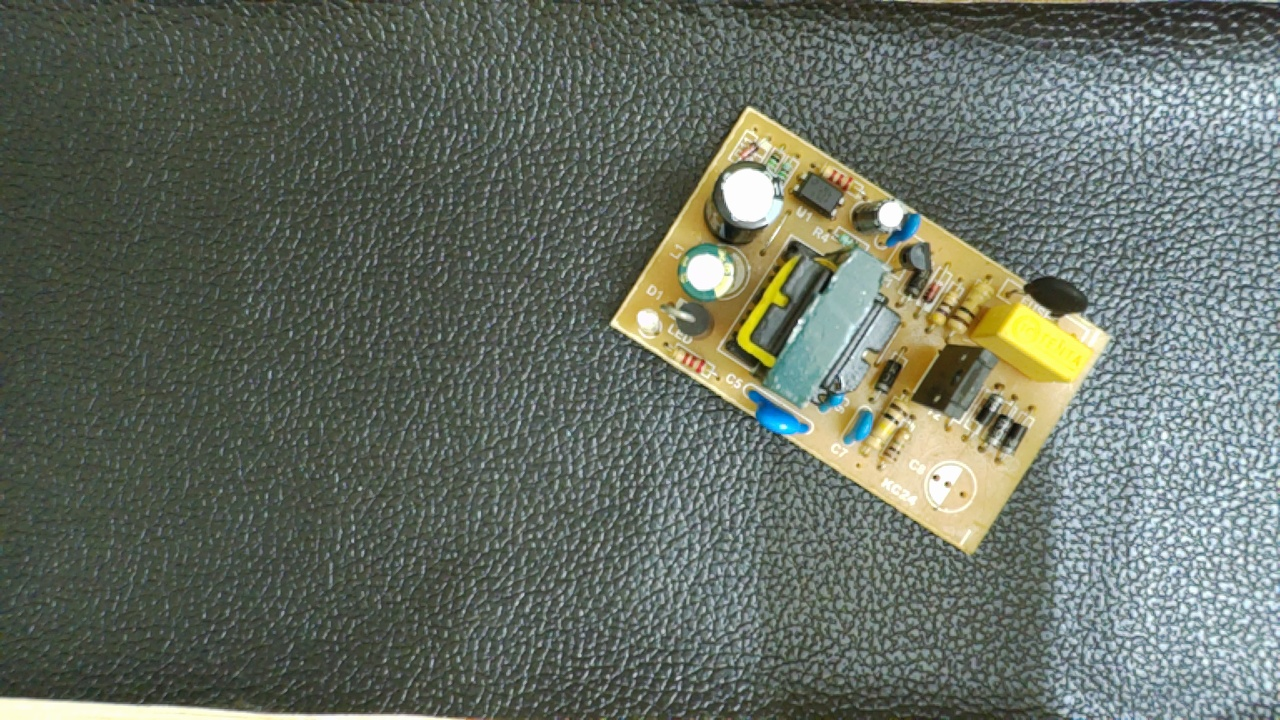fuse: (1007, 272, 1092, 323)
mov: (737, 384, 813, 440)
optocoupler: (786, 167, 849, 222)
